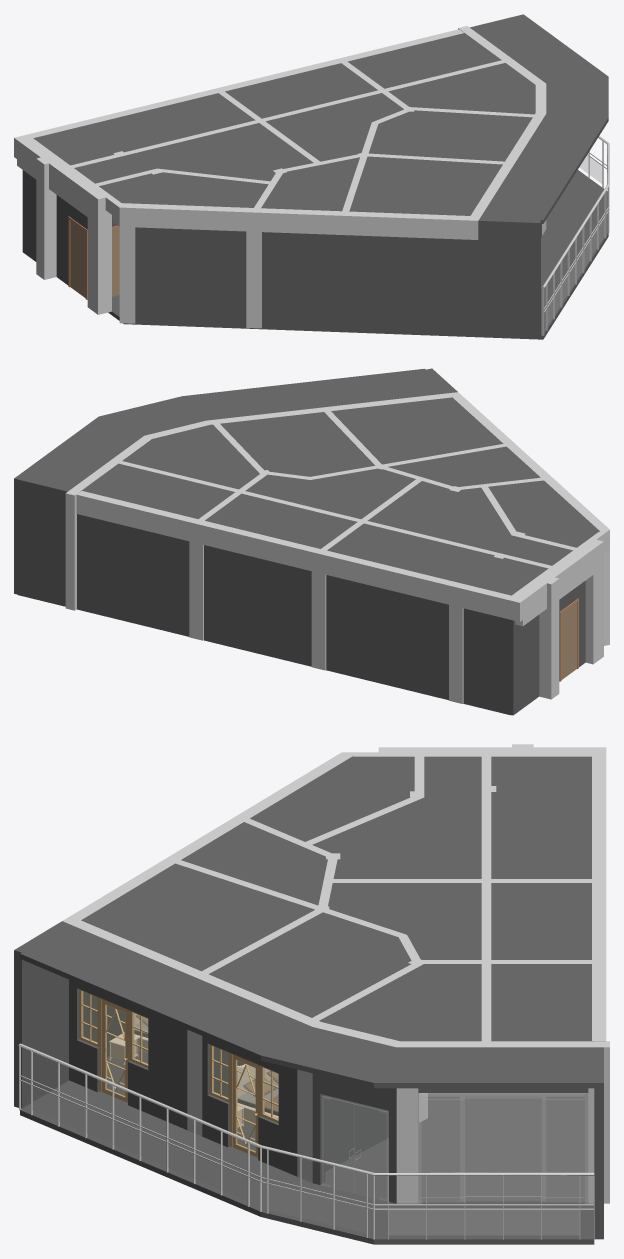
3 views of the same model, one above another, from view 1: azimuth 30°, elevation 25°; view 2: azimuth 150°, elevation 25°; view 3: azimuth 270°, elevation 25° (orthographic). The views are drawn at different scales.
Visible parts, largest first — view 1: product-610b2a91-4989-4344-9ee1-9c9c8a3cf340-body, product-610b2a91-4989-4344-9ee1-9c9c8a3c55a5-body, product-610b2a91-4989-4344-9ee1-9c9c8a3c55c3-body, product-610b2a91-4989-4344-9ee1-9c9c8a3c5718-body, product-610b2a91-4989-4344-9ee1-9c9c8a3c5a2e-body, product-610b2a91-4989-4344-9ee1-9c9c8a3c544d-body, product-610b2a91-4989-4344-9ee1-9c9c8a3cfb61-body, product-610b2a91-4989-4344-9ee1-9c9c8a3c57e8-body, product-610b2a91-4989-4344-9ee1-9c9c8a3c544f-body, product-610b2a91-4989-4344-9ee1-9c9c8a3c57e0-body, product-610b2a91-4989-4344-9ee1-9c9c8a3c57a7-body, product-610b2a91-4989-4344-9ee1-9c9c8a3c57a5-body (+17 smaller); view 2: product-610b2a91-4989-4344-9ee1-9c9c8a3cf340-body, product-610b2a91-4989-4344-9ee1-9c9c8a3c55a0-body, product-610b2a91-4989-4344-9ee1-9c9c8a3c571b-body, product-610b2a91-4989-4344-9ee1-9c9c8a3c55a1-body, product-610b2a91-4989-4344-9ee1-9c9c8a3c1990-body, product-610b2a91-4989-4344-9ee1-9c9c8a3c55a6-body, product-610b2a91-4989-4344-9ee1-9c9c8a3c5447-body, product-610b2a91-4989-4344-9ee1-9c9c8a3c5443-body, product-610b2a91-4989-4344-9ee1-9c9c8a3c5441-body, product-610b2a91-4989-4344-9ee1-9c9c8a3c57e0-body, product-610b2a91-4989-4344-9ee1-9c9c8a3c57e8-body, product-610b2a91-4989-4344-9ee1-9c9c8a3c55b9-body (+18 smaller); view 3: product-610b2a91-4989-4344-9ee1-9c9c8a3cf340-body, product-610b2a91-4989-4344-9ee1-9c9c8a3c5a2e-body, product-610b2a91-4989-4344-9ee1-9c9c8a3cfb61-body, product-610b2a91-4989-4344-9ee1-9c9c8a3c15d8-body, product-610b2a91-4989-4344-9ee1-9c9c8a3c55c2-body, product-610b2a91-4989-4344-9ee1-9c9c8a3c5718-body, product-610b2a91-4989-4344-9ee1-9c9c8a3c15d9-body, product-610b2a91-4989-4344-9ee1-9c9c8a3c55a7-body, product-610b2a91-4989-4344-9ee1-9c9c8a3c15da-body, product-610b2a91-4989-4344-9ee1-9c9c8a3c15db-body, product-610b2a91-4989-4344-9ee1-9c9c8a3c571f-body, product-610b2a91-4989-4344-9ee1-9c9c8a3c541e-body (+24 smaller).
Boxes of the visible parts, bbox=[...] form: product-610b2a91-4989-4344-9ee1-9c9c8a3cf340-body: bbox=[33, 17, 608, 223]; product-610b2a91-4989-4344-9ee1-9c9c8a3c55a5-body: bbox=[262, 232, 474, 336]; product-610b2a91-4989-4344-9ee1-9c9c8a3c55c3-body: bbox=[135, 227, 246, 327]; product-610b2a91-4989-4344-9ee1-9c9c8a3c5718-body: bbox=[478, 218, 540, 338]; product-610b2a91-4989-4344-9ee1-9c9c8a3c5a2e-body: bbox=[108, 170, 608, 339]; product-610b2a91-4989-4344-9ee1-9c9c8a3c544d-body: bbox=[262, 208, 478, 239]; product-610b2a91-4989-4344-9ee1-9c9c8a3cfb61-body: bbox=[542, 136, 609, 335]; product-610b2a91-4989-4344-9ee1-9c9c8a3c57e8-body: bbox=[87, 188, 111, 314]; product-610b2a91-4989-4344-9ee1-9c9c8a3c544f-body: bbox=[113, 203, 246, 231]; product-610b2a91-4989-4344-9ee1-9c9c8a3c57e0-body: bbox=[36, 154, 62, 279]; product-610b2a91-4989-4344-9ee1-9c9c8a3c57a7-body: bbox=[119, 203, 136, 323]; product-610b2a91-4989-4344-9ee1-9c9c8a3c57a5-body: bbox=[246, 207, 262, 328]; product-610b2a91-4989-4344-9ee1-9c9c8a3cf340-body: bbox=[18, 368, 599, 595]; product-610b2a91-4989-4344-9ee1-9c9c8a3c55a0-body: bbox=[326, 575, 448, 699]; product-610b2a91-4989-4344-9ee1-9c9c8a3c571b-body: bbox=[77, 514, 189, 636]; product-610b2a91-4989-4344-9ee1-9c9c8a3c55a1-body: bbox=[204, 545, 311, 666]; product-610b2a91-4989-4344-9ee1-9c9c8a3c1990-body: bbox=[14, 476, 70, 606]; product-610b2a91-4989-4344-9ee1-9c9c8a3c55a6-body: bbox=[463, 608, 516, 715]; product-610b2a91-4989-4344-9ee1-9c9c8a3c5447-body: bbox=[325, 551, 453, 604]; product-610b2a91-4989-4344-9ee1-9c9c8a3c5443-body: bbox=[76, 491, 193, 541]; product-610b2a91-4989-4344-9ee1-9c9c8a3c5441-body: bbox=[203, 521, 316, 570]; product-610b2a91-4989-4344-9ee1-9c9c8a3c57e0-body: bbox=[533, 574, 559, 699]; product-610b2a91-4989-4344-9ee1-9c9c8a3c57e8-body: bbox=[580, 538, 603, 664]; product-610b2a91-4989-4344-9ee1-9c9c8a3c55b9-body: bbox=[516, 615, 539, 712]; product-610b2a91-4989-4344-9ee1-9c9c8a3cf340-body: bbox=[20, 756, 594, 1088]; product-610b2a91-4989-4344-9ee1-9c9c8a3c5a2e-body: bbox=[20, 1050, 594, 1244]; product-610b2a91-4989-4344-9ee1-9c9c8a3cfb61-body: bbox=[18, 1043, 594, 1239]; product-610b2a91-4989-4344-9ee1-9c9c8a3c15d8-body: bbox=[418, 1093, 588, 1203]; product-610b2a91-4989-4344-9ee1-9c9c8a3c55c2-body: bbox=[69, 979, 187, 1129]; product-610b2a91-4989-4344-9ee1-9c9c8a3c5718-body: bbox=[14, 921, 68, 1108]; product-610b2a91-4989-4344-9ee1-9c9c8a3c15d9-body: bbox=[320, 1094, 388, 1200]; product-610b2a91-4989-4344-9ee1-9c9c8a3c55a7-body: bbox=[202, 1036, 297, 1176]; product-610b2a91-4989-4344-9ee1-9c9c8a3c15da-body: bbox=[79, 989, 148, 1102]; product-610b2a91-4989-4344-9ee1-9c9c8a3c15db-body: bbox=[210, 1044, 278, 1157]; product-610b2a91-4989-4344-9ee1-9c9c8a3c571f-body: bbox=[312, 1073, 396, 1203]; product-610b2a91-4989-4344-9ee1-9c9c8a3c541e-body: bbox=[325, 1095, 388, 1171].
Size of the model in its own units: 16.77 by 3.72 by 12.44.
